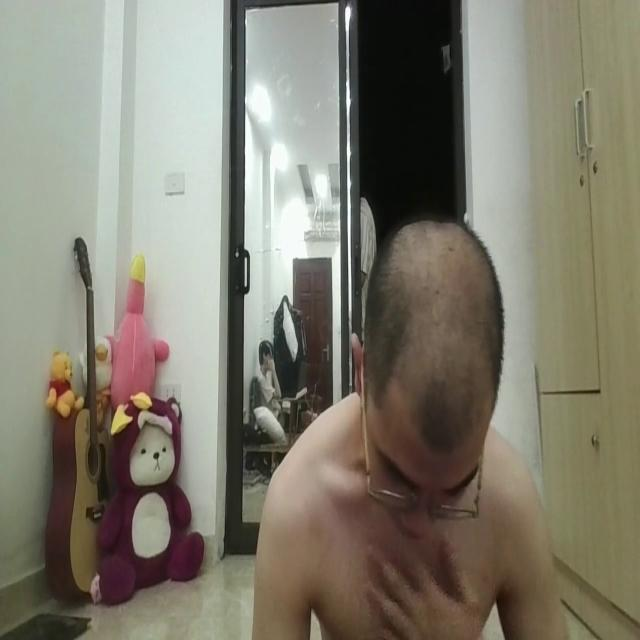extra_person: (242, 314, 307, 440), (353, 162, 379, 316)
student: (250, 221, 579, 640)
